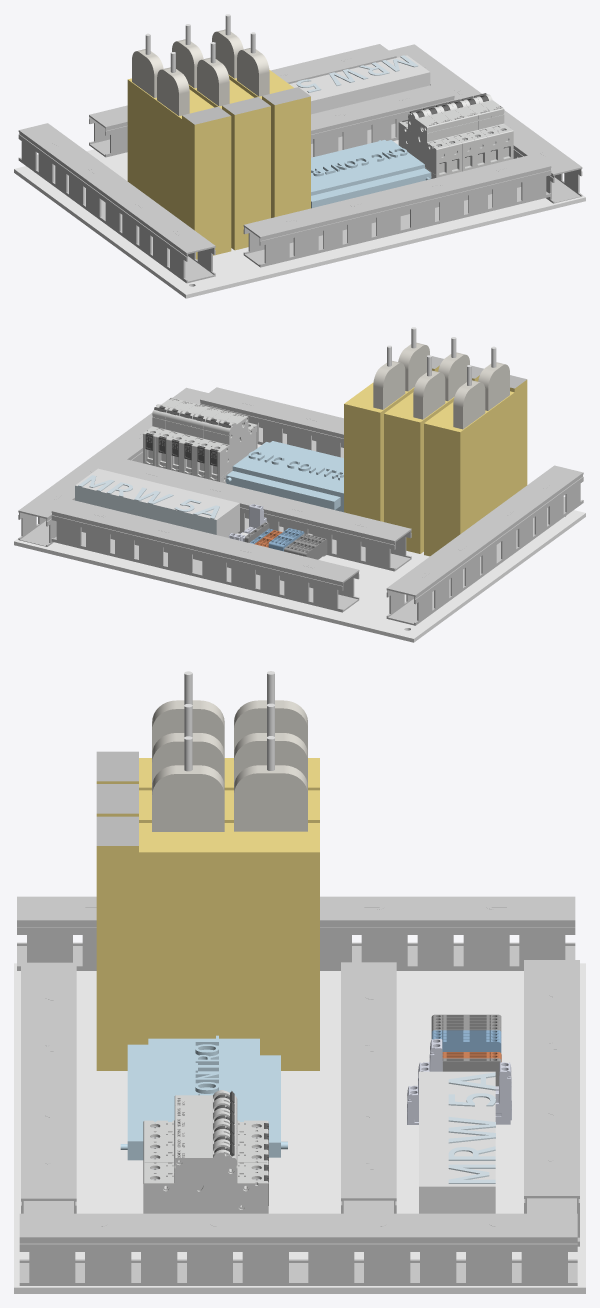
The model's file is telbkum-v1.glb.
3 renders of one model, top to bottom at view 1: azimuth 30°, elevation 25°; view 2: azimuth 150°, elevation 25°; view 3: azimuth 270°, elevation 25°, orthographic. The views are drawn at different scales.
Visible parts, largest first — view 1: 40cm (×5), ServoSurucu (×3), zarfsacÄ±_telbukme, Sigorta (×6), mac3_kart, MRW 5A; view 2: 40cm (×5), ServoSurucu (×3), zarfsacÄ±_telbukme, Sigorta (×6), MRW 5A, mac3_kart, Role; view 3: 40cm (×5), ServoSurucu (×3), zarfsacÄ±_telbukme, Sigorta (×6), mac3_kart, MRW 5A, Role, siyah_klamens.
Part boxes in pixels (left/top/right/bottom): 40cm (×5): left=18, top=44, right=582, bottom=283; ServoSurucu (×3): left=127, top=14, right=310, bottom=259; zarfsacÄ±_telbukme: left=14, top=140, right=585, bottom=298; Sigorta (×6): left=398, top=93, right=513, bottom=178; mac3_kart: left=311, top=140, right=431, bottom=208; MRW 5A: left=288, top=55, right=430, bottom=114; 40cm (×5): left=18, top=387, right=583, bottom=625; ServoSurucu (×3): left=344, top=327, right=527, bottom=556; zarfsacÄ±_telbukme: left=14, top=444, right=585, bottom=642; Sigorta (×6): left=143, top=397, right=257, bottom=483; MRW 5A: left=75, top=468, right=239, bottom=537; mac3_kart: left=225, top=441, right=343, bottom=512; Role: left=228, top=504, right=267, bottom=541; 40cm (×5): left=17, top=896, right=579, bottom=1285; ServoSurucu (×3): left=96, top=671, right=319, bottom=1070; zarfsacÄ±_telbukme: left=14, top=963, right=585, bottom=1293; Sigorta (×6): left=143, top=1090, right=268, bottom=1213; mac3_kart: left=120, top=1035, right=287, bottom=1160; MRW 5A: left=419, top=1071, right=495, bottom=1213; Role: left=407, top=1039, right=511, bottom=1124; siyah_klamens: left=442, top=1058, right=501, bottom=1086.
Bounding box in the file's own units: 0.55 × 0.2599 × 0.41.
